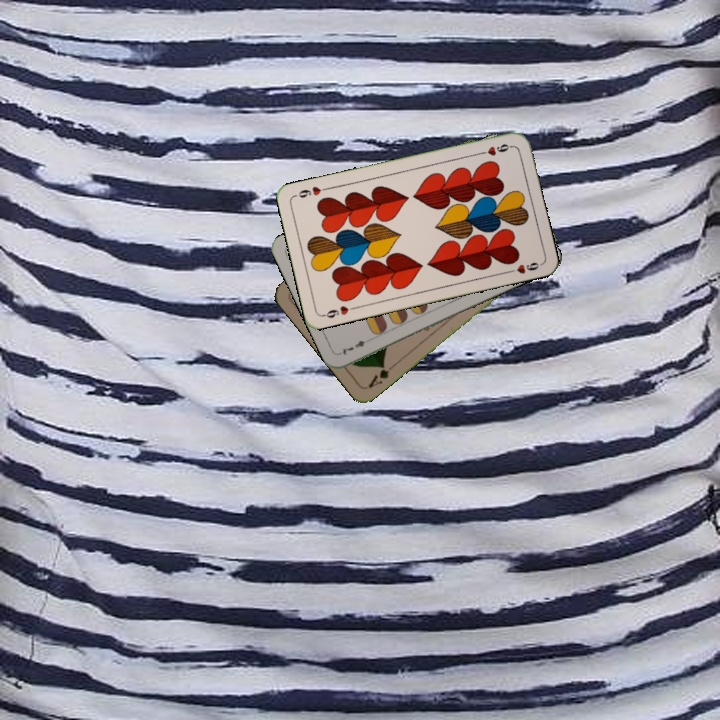E7: (336, 334, 375, 357)
GA: (364, 360, 398, 390)
H9: (319, 302, 359, 321), (475, 140, 515, 158)
